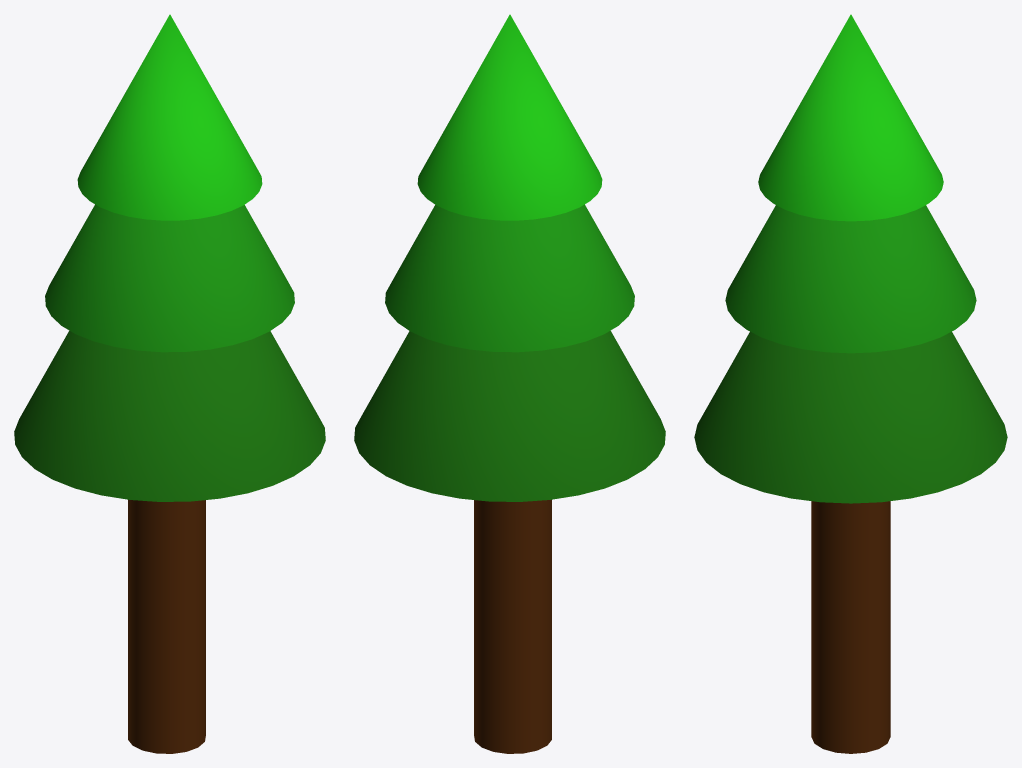
File: tree 1.fbx
The picture shows the model from 3 angles, left to right: view 1: azimuth 30°, elevation 25°; view 2: azimuth 150°, elevation 25°; view 3: azimuth 270°, elevation 25°; orthographic projection.
Visible parts, largest first — view 1: tree 1; view 2: tree 1; view 3: tree 1.
Boxes of the visible parts, x1,y1,x2,y2 form: tree 1: (14,14,325,753); tree 1: (354,14,665,753); tree 1: (694,14,1007,753).
Bounding box in the file's own units: 219 × 558 × 219.
